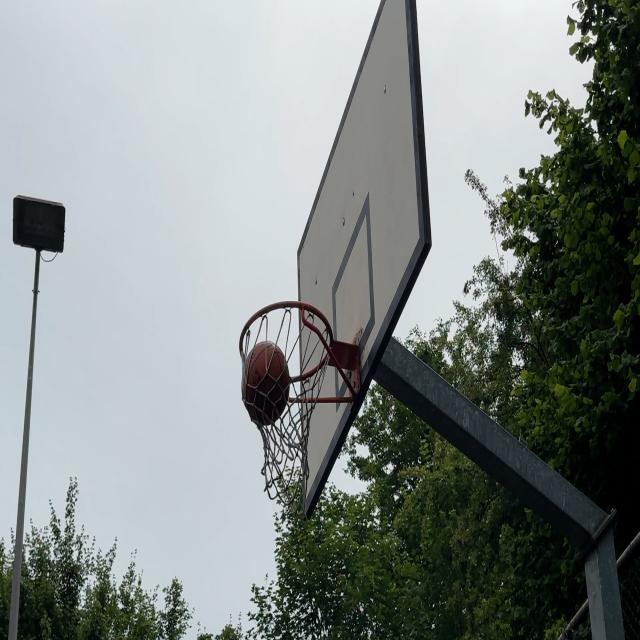rebound_hit: (242, 340, 290, 426)
